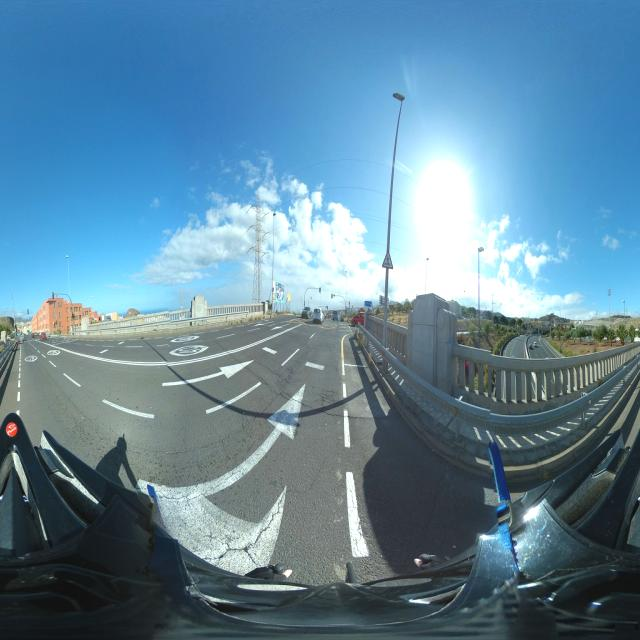car: (312, 307, 323, 325)
